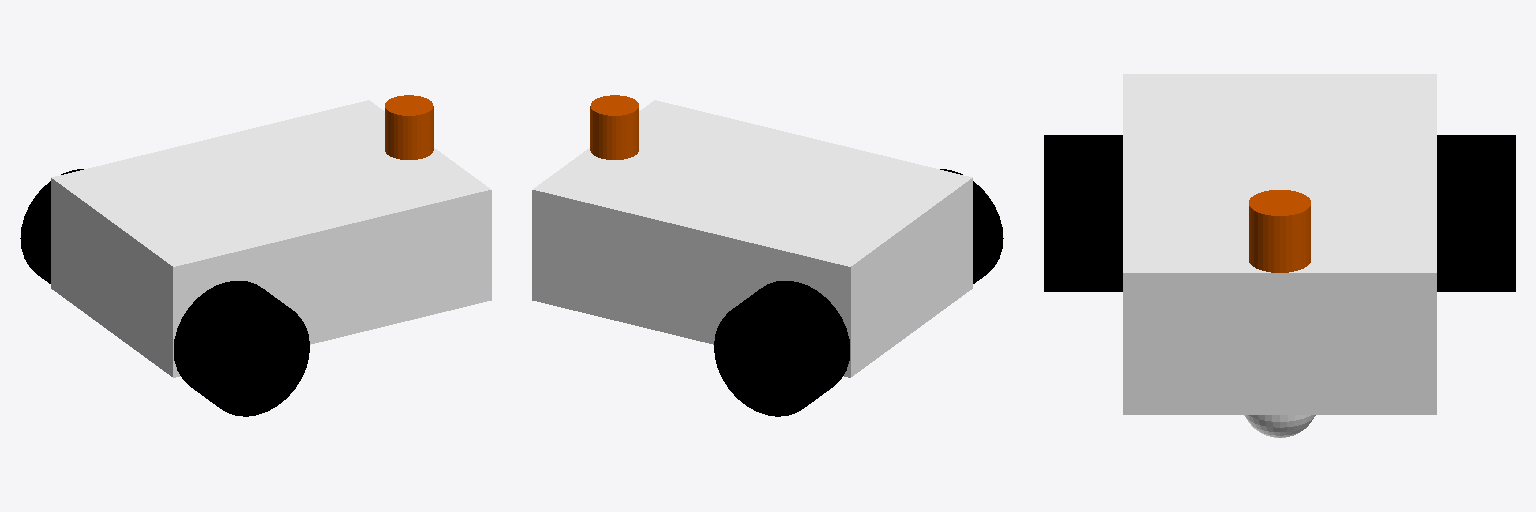
The robot description file, URDF, robot "robot3_simulation":
<?xml version="1.0" ?>
<!-- =================================================================================== -->
<!-- |    This document was autogenerated by xacro from robot3_simulation.xacro        | -->
<!-- |    EDITING THIS FILE BY HAND IS NOT RECOMMENDED                                 | -->
<!-- =================================================================================== -->
<robot name="robot3_simulation" xmlns:xacro="http://ros.org/wiki/xacro">
    <material name="black">
        <color rgba="0 0 0 1"/>
    </material>
    <link name="base_link"/>
    <joint name="body1_joint" type="fixed">
        <parent link="base_link"/>
        <child link="body_link"/>
        <origin rpy="0 0 -1.57079632679" xyz="0 0 0.075"/>
    </joint>
    <link name="body_link">
        <visual>
        <geometry>
            <box size="0.2 0.3 0.1"/>
        </geometry>
        <origin rpy="0 0 0" xyz="0 0 0"/>
        <material name="white">
            <color rgba="1 1 1 1"/>
        </material>
        </visual>
        <inertial>
        <origin rpy="0 0 0" xyz="0 0 0"/>
        <mass value="0.1"/>
        <inertia ixx="0.001" ixy="0" ixz="0" iyy="0.001" iyz="0" izz="0.001"/>
        </inertial>
        <collision>
        <origin rpy="0 0 0" xyz="0 0 0"/>
        <geometry>
            <cylinder length="0.05" radius="0.05"/>
        </geometry>
        </collision>
    </link>
    <gazebo reference="body_link">
        <material>Gazebo/white</material>
    </gazebo>
    <joint name="body_to_ball_joint" type="fixed">
        <origin rpy="0 0 0" xyz="0 0.125 -0.05"/>
        <parent link="body_link"/>
        <child link="ball_link"/>
    </joint>
    <link name="ball_link">
        <visual>
        <origin rpy="0 0 0" xyz="0 0 0"/>
        <geometry>
            <sphere radius="0.025"/>
        </geometry>
        <material name="white">
            <color rgba="1 1 1 1"/>
        </material>
        </visual>
        <collision>
        <origin rpy="0 0 0" xyz="0 0 0"/>
        <geometry>
            <sphere radius="0.025"/>
        </geometry>
        </collision>
    </link>
    <gazebo reference="ball_link">
        <material>Gazebo/white</material>
        <mu1 value="0.5"/>
        <mu2 value="0.5"/>
    </gazebo>
    <joint name="base_to_wheel_R" type="continuous">
        <origin rpy="0 -1.57079632679 0" xyz="0.125 -0.1 -0.025"/>
        <parent link="body_link"/>
        <child link="wheel_R"/>
        <axis xyz="0 0 1"/>
        <limit effort="5" velocity="12.0"/>
        <dynamics damping="0.1"/>
    </joint>
    <transmission name="base_to_wheel_R_trans">
        <type>transmission_interface/SimpleTransmission</type>
        <joint name="base_to_wheel_R">
        <hardwareInterface>hardware_interface/VelocityJointInterface</hardwareInterface>
        </joint>
        <actuator name="base_to_wheel_R_motor">
        <hardwareInterface>hardware_interface/VelocityJointInterface</hardwareInterface>
        <mechanismReduction>1</mechanismReduction>
        </actuator>
    </transmission>
    <link name="wheel_R">
        <visual>
        <geometry>
            <cylinder length="0.05" radius="0.05"/>
        </geometry>
        <origin rpy="0 0 0" xyz="0 0 0"/>
        <material name="black"/>
        </visual>
        <inertial>
        <origin rpy="0 0 0" xyz="0 0 0"/>
        <mass value="0.1"/>
        <inertia ixx="0.0001" ixy="0" ixz="0" iyy="0.0001" iyz="0" izz="0.0001"/>
        </inertial>
        <collision>
        <origin rpy="0 0 0" xyz="0 0 0"/>
        <geometry>
            <cylinder length="0.048" radius="0.05"/>
        </geometry>
        </collision>
    </link>
    <gazebo reference="wheel_R">
        <material>Gazebo/black</material>
        <mu1 value="1.0"/>
        <mu2 value="1.0"/>
        <kp value="50000"/>
        <kd value="10"/>
    </gazebo>
    <joint name="base_to_wheel_L" type="continuous">
        <origin rpy="0 -1.57079632679 0" xyz="-0.125 -0.1 -0.025"/>
        <parent link="body_link"/>
        <child link="wheel_L"/>
        <axis xyz="0 0 1"/>
        <limit effort="5" velocity="12.0"/>
        <dynamics damping="0.1"/>
    </joint>
    <transmission name="base_to_wheel_L_trans">
        <type>transmission_interface/SimpleTransmission</type>
        <joint name="base_to_wheel_L">
        <hardwareInterface>hardware_interface/VelocityJointInterface</hardwareInterface>
        </joint>
        <actuator name="base_to_wheel_L_motor">
        <hardwareInterface>hardware_interface/VelocityJointInterface</hardwareInterface>
        <mechanismReduction>1</mechanismReduction>
        </actuator>
    </transmission>
    <link name="wheel_L">
        <visual>
        <geometry>
            <cylinder length="0.05" radius="0.05"/>
        </geometry>
        <origin rpy="0 0 0" xyz="0 0 0"/>
        <material name="black"/>
        </visual>
        <inertial>
        <origin rpy="0 0 0" xyz="0 0 0"/>
        <mass value="0.1"/>
        <inertia ixx="0.0001" ixy="0" ixz="0" iyy="0.0001" iyz="0" izz="0.0001"/>
        </inertial>
        <collision>
        <origin rpy="0 0 0" xyz="0 0 0"/>
        <geometry>
            <cylinder length="0.048" radius="0.05"/>
        </geometry>
        </collision>
    </link>
    <gazebo reference="wheel_L">
        <material>Gazebo/black</material>
        <mu1 value="1.0"/>
        <mu2 value="1.0"/>
        <kp value="50000"/>
        <kd value="10"/>
    </gazebo>
    <joint name="laser_joint" type="fixed">
        <parent link="body_link"/>
        <child link="laser_link"/>
        <origin rpy="0 0 1.57079632679" xyz="0 0.13 0.07"/>
    </joint>
    <link name="laser_link">
        <visual>
        <origin rpy="0 0 0" xyz="0 0 0"/>
        <geometry>
            <cylinder length="0.04" radius="0.02"/>
        </geometry>
        <material name="red"/>
        </visual>
        <collision>
        <origin rpy="0 0 0" xyz="0 0 0"/>
        <geometry>
            <cylinder length="0.04" radius="0.02"/>
        </geometry>
        </collision>
    </link>
    <gazebo reference="laser_link">
        <material>Gazebo/Red</material>
        <sensor name="laser" type="ray">
        <pose>0 0 0 0 0 0</pose>
        <visualize>true</visualize>
        <update_rate>10</update_rate>
        <ray>
            <scan>
            <horizontal>
                <samples>400</samples>
                <resolution>1</resolution>
                <min_angle>-1.0471975512</min_angle>
                <max_angle>1.0471975512</max_angle>
            </horizontal>
            </scan>
            <range>
            <min>0.10</min>
            <max>20.0</max>
            <resolution>0.01</resolution>
            </range>
            <noise>
            <type>gaussian</type>
            <mean>0.0</mean>
            <stddev>0.01</stddev>
            </noise>
        </ray>
        <plugin filename="libgazebo_ros_laser.so" name="gazebo_ros_lidar_controller">
            <topicName>/laser_link/scan</topicName>
            <frameName>laser_link</frameName>
        </plugin>
        </sensor>
    </gazebo>
    <gazebo>
        <plugin filename="libgazebo_ros_control.so" name="gazebo_ros_control">
        <robotNamespace>/robot3_simulation</robotNamespace>
        </plugin>
    </gazebo>
</robot>

--- Facts derived from the render (not from the file) ---
Views: 3 orthographic renders of the robot side by side, from view 1: azimuth 30°, elevation 25°; view 2: azimuth 150°, elevation 25°; view 3: azimuth 270°, elevation 25°.
Model robot3_simulation with 6 links and 5 joints (2 continuous, 3 fixed), rooted at base_link, posed every joint at zero.
Visible links, largest first — view 1: body_link, wheel_R, laser_link, wheel_L; view 2: body_link, wheel_L, laser_link, wheel_R; view 3: body_link, wheel_R, wheel_L, laser_link, ball_link.
Link boxes in pixels (x1,y1,x2,y2): body_link: (51,100,491,377); wheel_R: (174,281,309,416); laser_link: (385,95,433,159); wheel_L: (20,169,83,283); body_link: (532,100,972,377); wheel_L: (714,281,849,416); laser_link: (590,95,638,159); wheel_R: (940,169,1003,283); body_link: (1123,74,1436,414); wheel_R: (1044,135,1122,291); wheel_L: (1437,135,1515,291); laser_link: (1249,190,1310,272); ball_link: (1244,415,1315,437).
Bounding box of the posed robot: 0.3 × 0.3 × 0.165 m (x, y, z).
Geometry: primitives only (box / cylinder / sphere), no mesh files.
